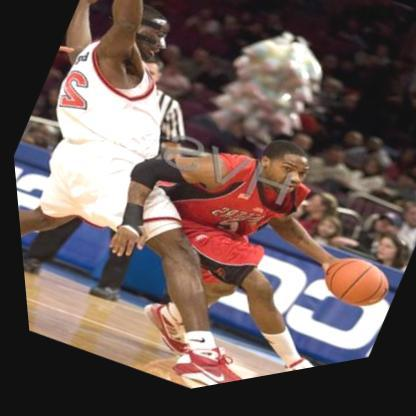basketball: (307, 253, 391, 335)
